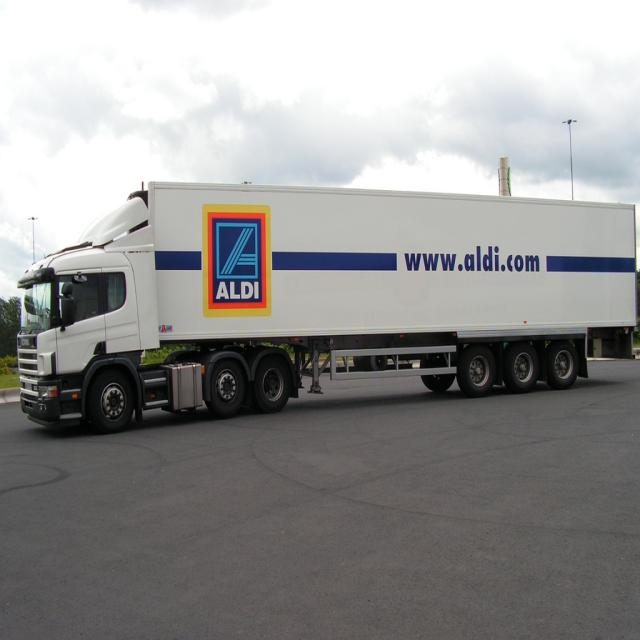aldi: (203, 204, 273, 318)
